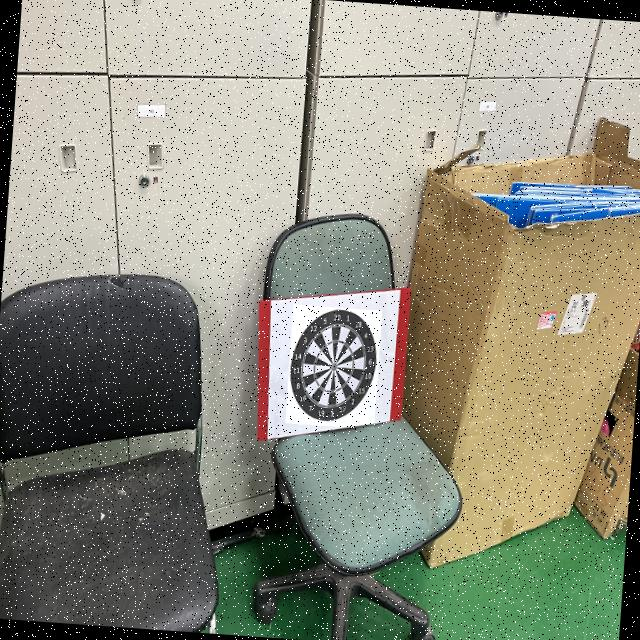archery-targets: (285, 304, 382, 429)
